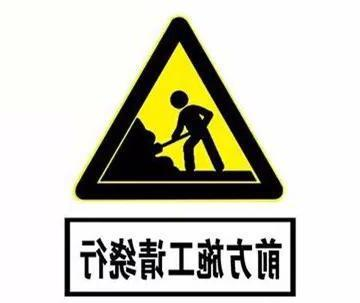sign: (63, 15, 298, 299)
